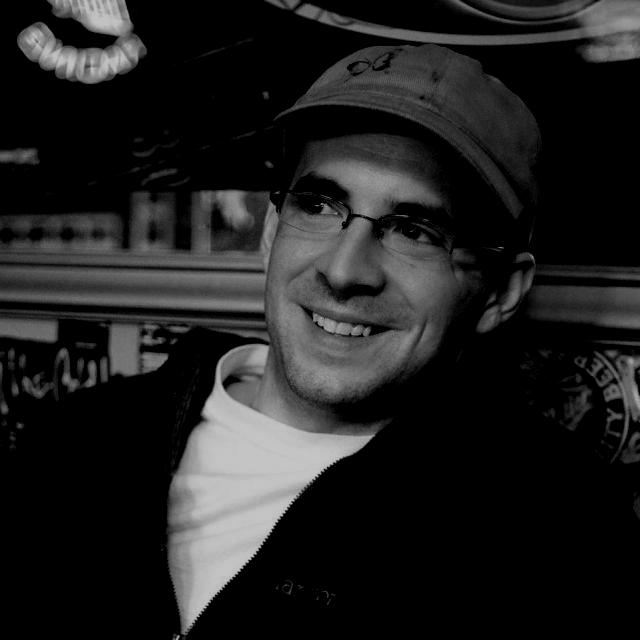real: (263, 137, 472, 403), (280, 170, 464, 258)
